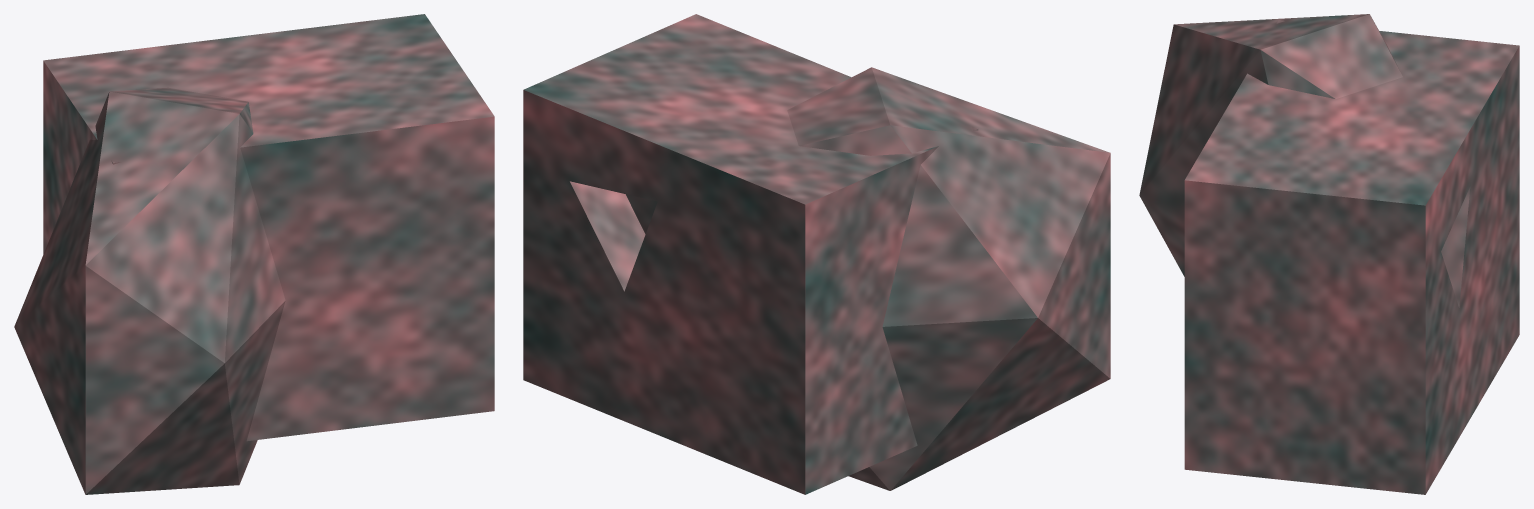
3 views of the same model, side by side, from view 1: azimuth 30°, elevation 25°; view 2: azimuth 150°, elevation 25°; view 3: azimuth 270°, elevation 25° (orthographic).
Visible parts, largest first — view 1: geometry_0; view 2: geometry_0; view 3: geometry_0.
Part boxes in pixels (x1,y1,x2,y2): geometry_0: (14, 14, 494, 494); geometry_0: (523, 14, 1110, 494); geometry_0: (1139, 14, 1519, 494).
Size of the model in its own units: 1.42 by 1.08 by 1.02.
Materials: 1 (1 with a texture image).
